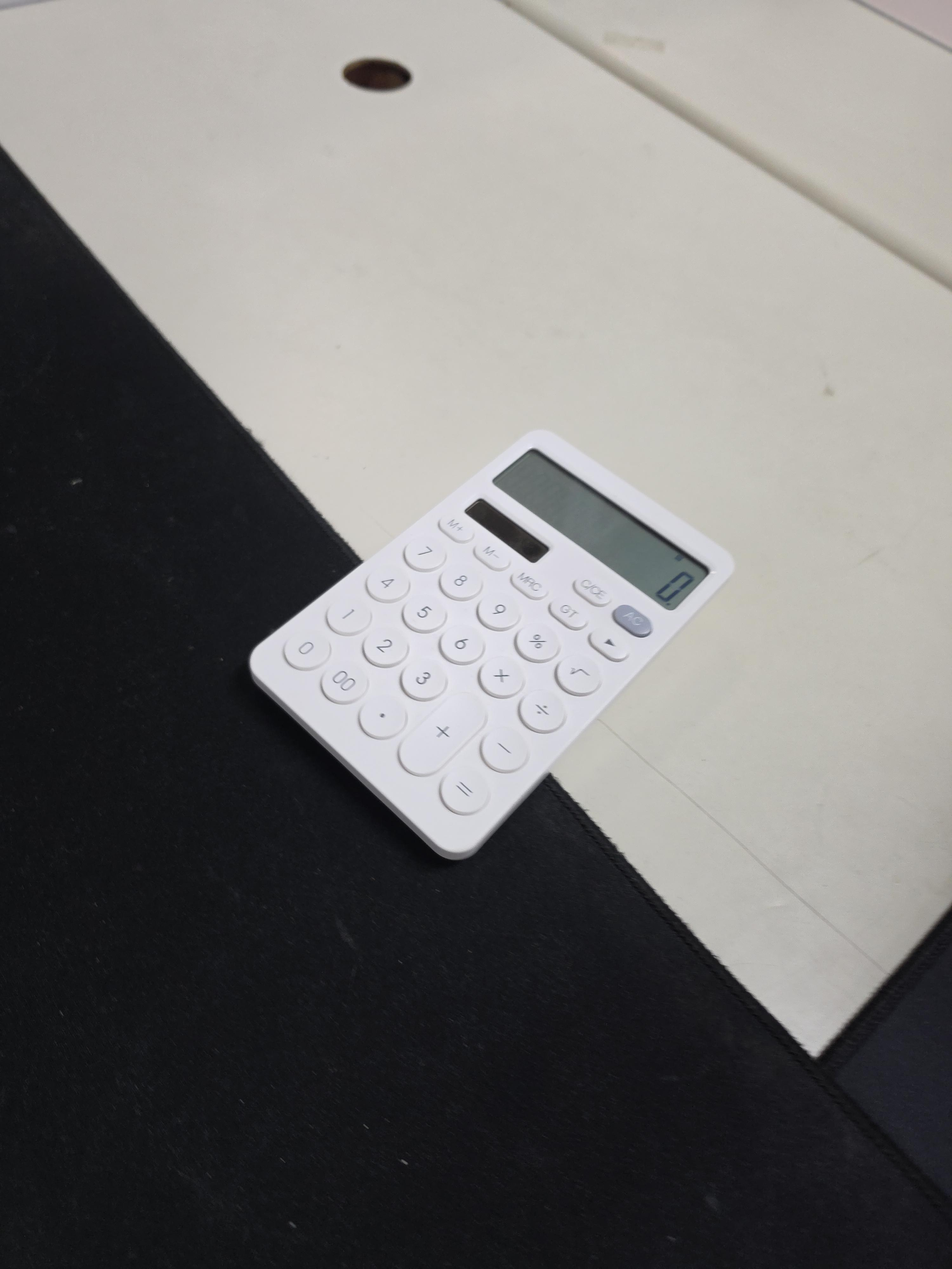calculator: (247, 429, 736, 860)
